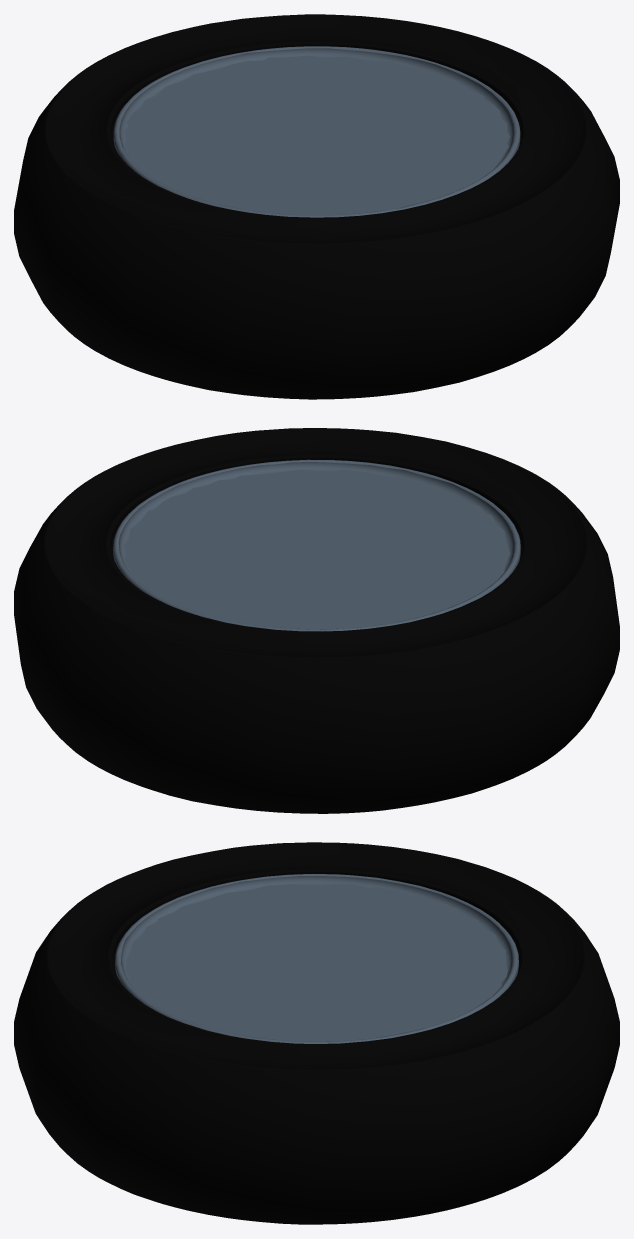
Rendered from fr_wheel.obj.
3 renders of one model, top to bottom at view 1: azimuth 30°, elevation 25°; view 2: azimuth 150°, elevation 25°; view 3: azimuth 270°, elevation 25°, orthographic.
Parts seen in each view (by area): view 1: Mesh_mesh-a7b7f1e0-b711-4a5c-96ff-b6933f253958, Բ__1; view 2: Mesh_mesh-a7b7f1e0-b711-4a5c-96ff-b6933f253958, Բ__1; view 3: Mesh_mesh-a7b7f1e0-b711-4a5c-96ff-b6933f253958, Բ__1.
Boxes of the visible parts, x1,y1,x2,y2 form: Mesh_mesh-a7b7f1e0-b711-4a5c-96ff-b6933f253958: (14,14,619,399); Բ__1: (113,46,520,217); Mesh_mesh-a7b7f1e0-b711-4a5c-96ff-b6933f253958: (14,428,619,813); Բ__1: (113,459,520,631); Mesh_mesh-a7b7f1e0-b711-4a5c-96ff-b6933f253958: (14,842,619,1224); Բ__1: (115,874,518,1043).
Size of the model in its own units: 0.1796 by 0.0505 by 0.1796.
